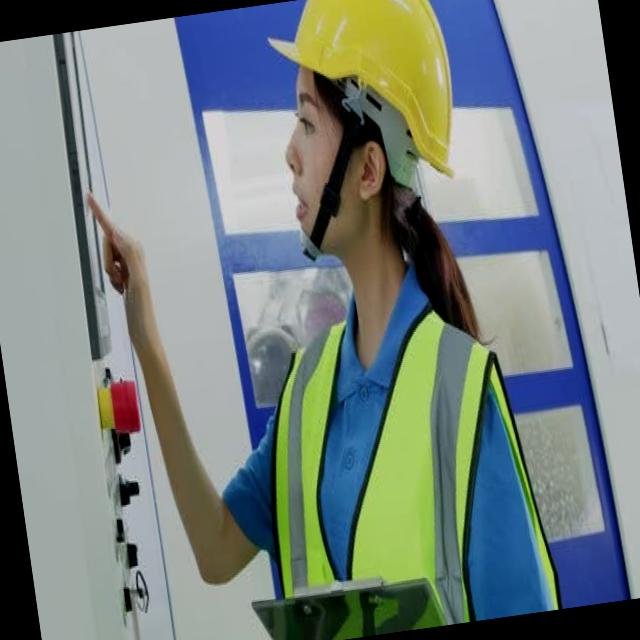helmet: (255, 0, 468, 211)
no-goggles: (271, 72, 387, 170)
vest: (242, 289, 561, 640)
